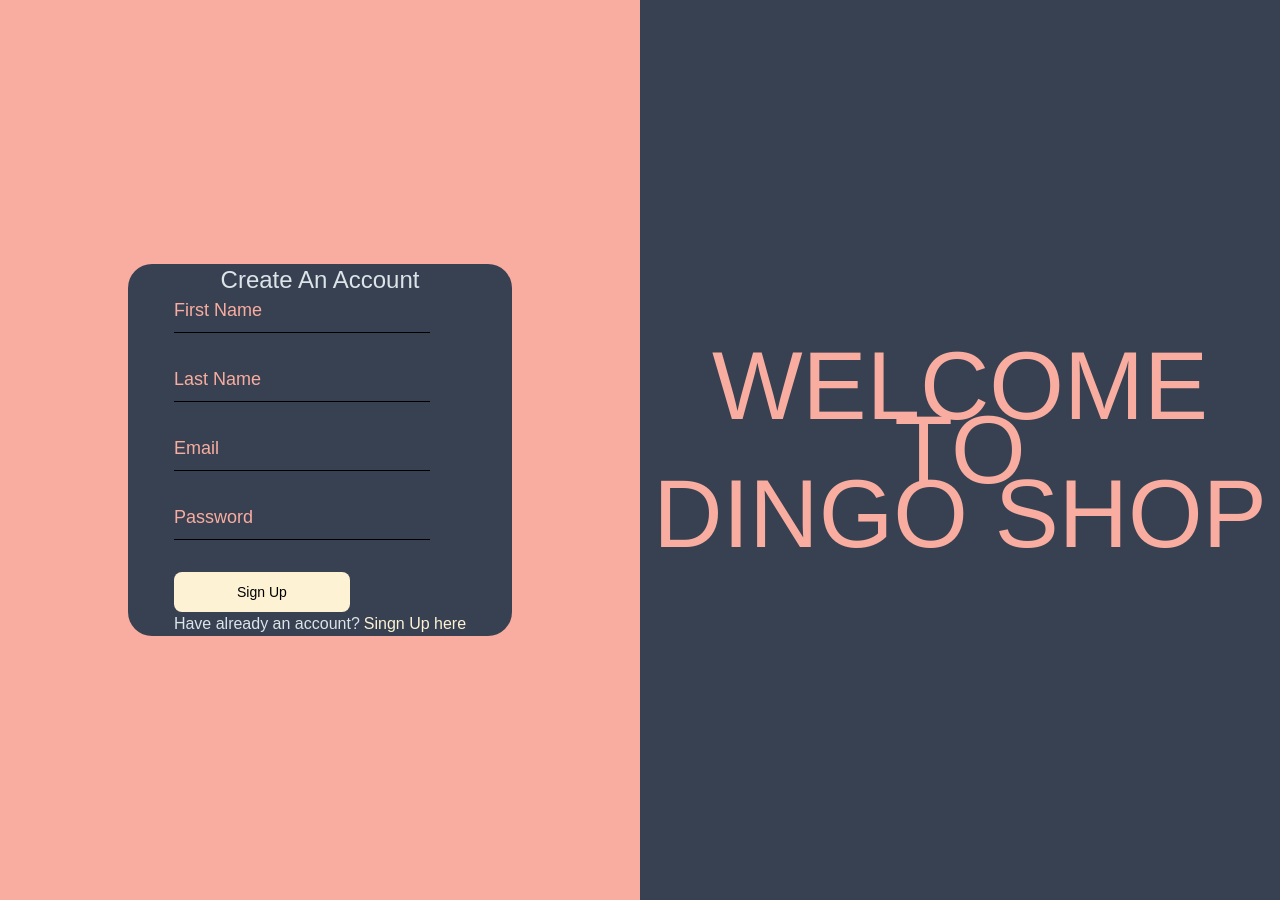
Scenario: testing functionality of sign up › required inputs' error messages
Click the button with test id "submit-button": [262, 592] box [174,572,350,612]
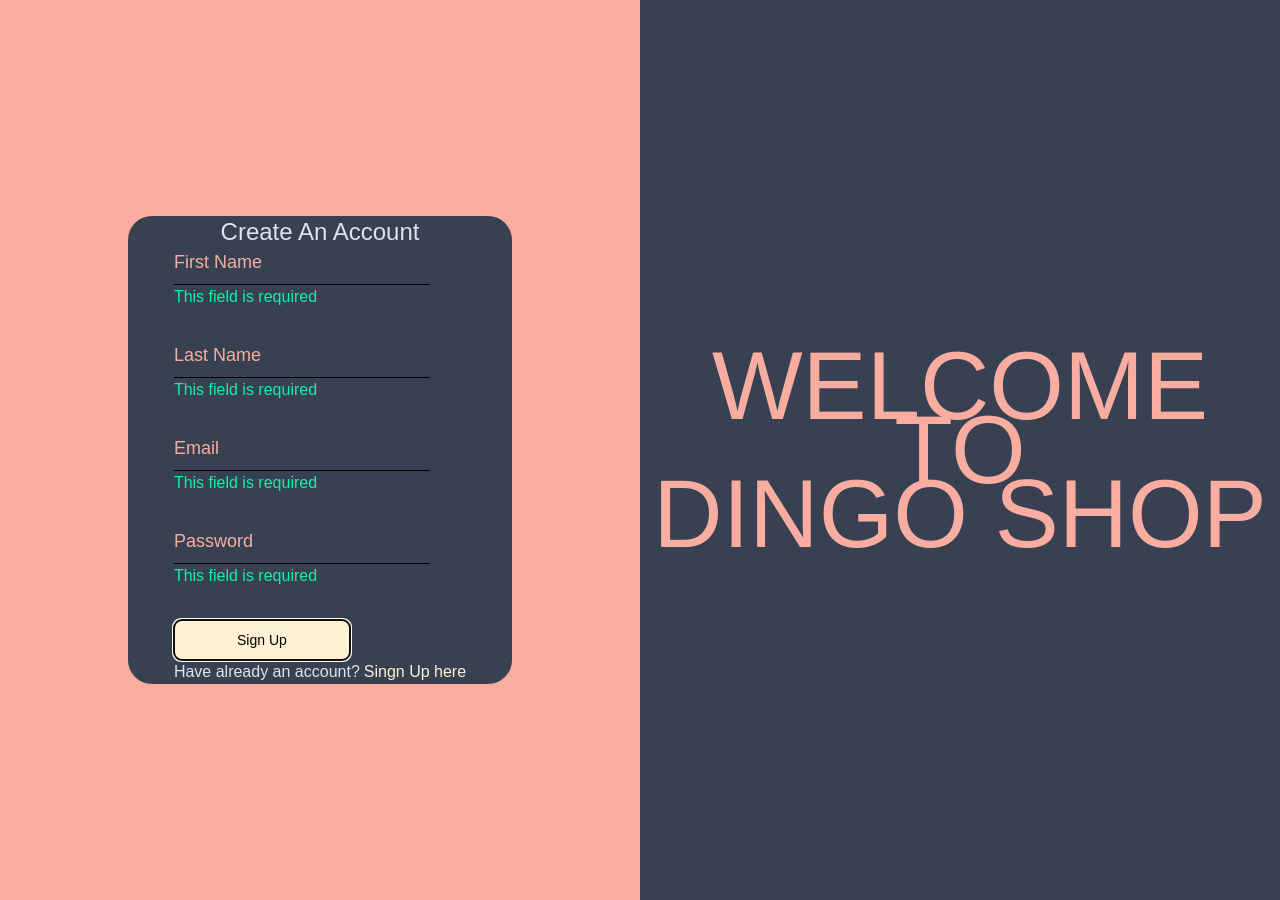
Now the text with test id "first_name-error" is shown, box [174,288,317,305]
Now the text with test id "last_name-error" is shown, box [174,381,317,398]
Now the text with test id "email-error" is shown, box [174,474,317,491]
